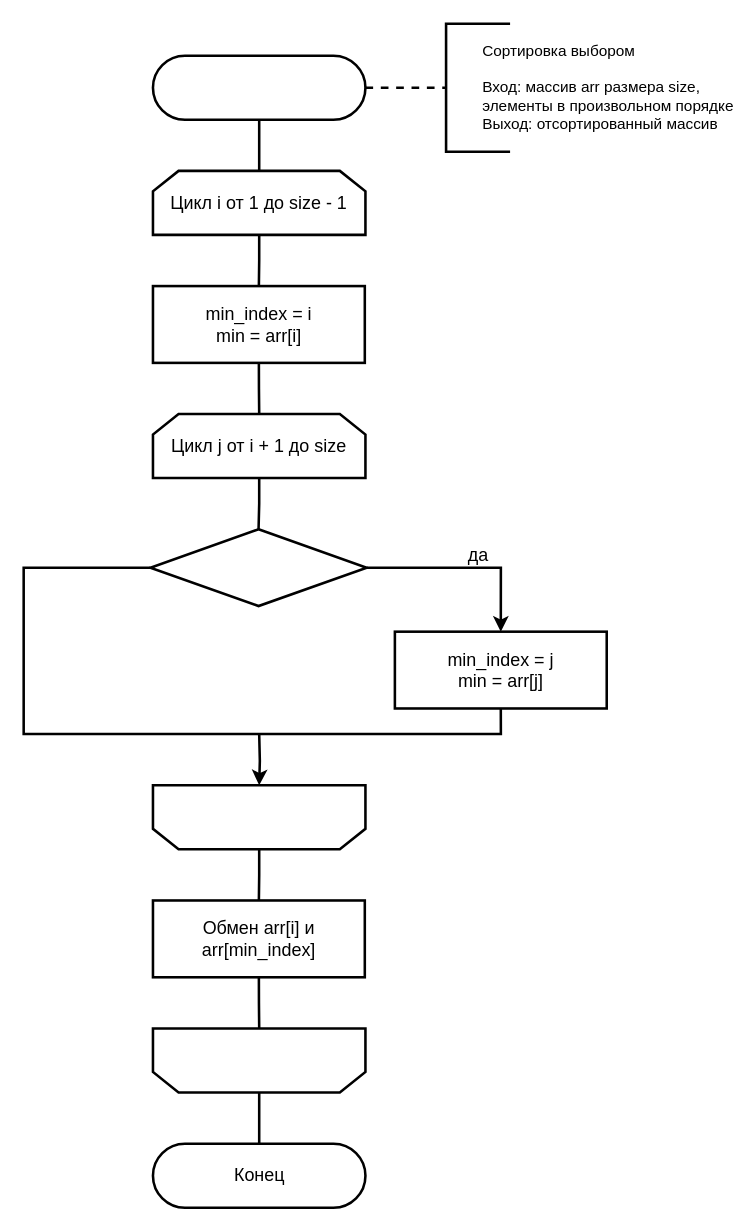
This 755x1230 diagram has some shape labels left out. Each missing label, with the box of its shape:
arr[j] < min: (148, 527, 367, 607)
i += 1: (151, 1027, 366, 1093)
j += 1: (151, 783, 366, 850)
Начало: (151, 54, 366, 120)
